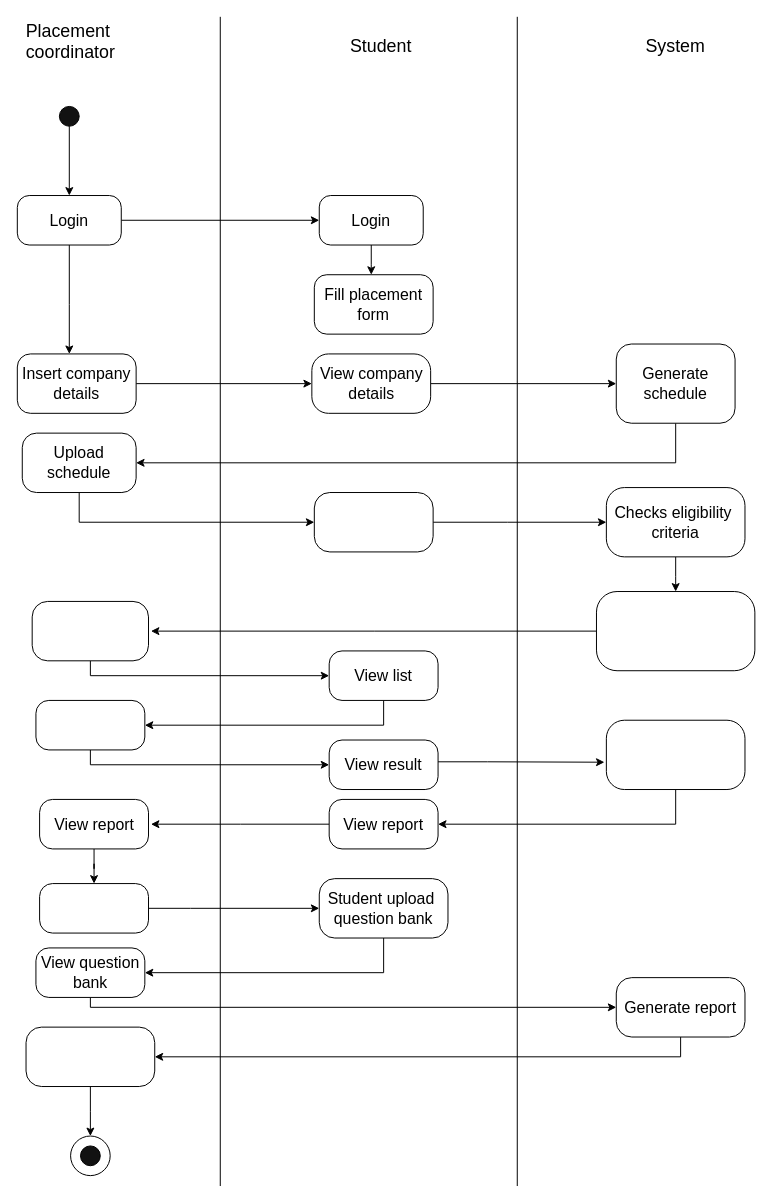
The diagram is 772 pixels wide and 1203 high, and some of its shapes have lost their labels. Here are the shapes that lost their labels. From the top down, the centre of each, then its label:
At (373,522): "View schedule".
At (89,630): "Upload list".
At (675,631): "Generates list of eligible students".
At (90,724): "Enter results".
At (675,754): "Generate progress report".
At (93,908): "Manage data".
At (90,1056): "Download reports".
